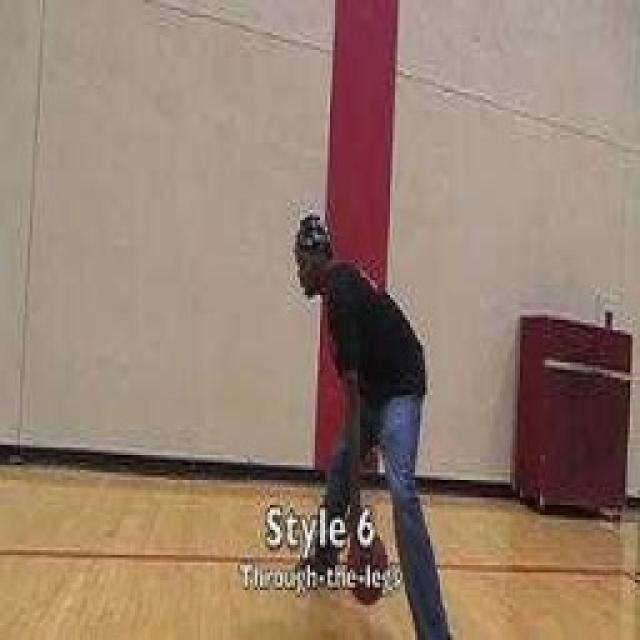basketball: (344, 515, 392, 610)
